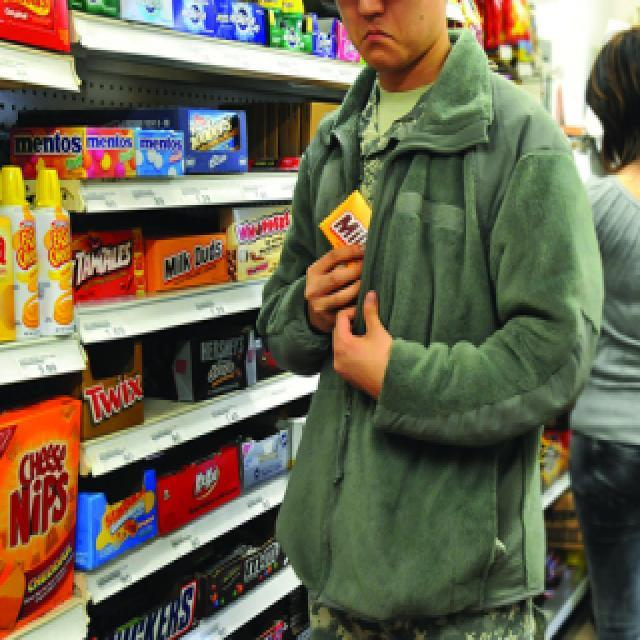Shoplifting: (265, 0, 604, 640)
